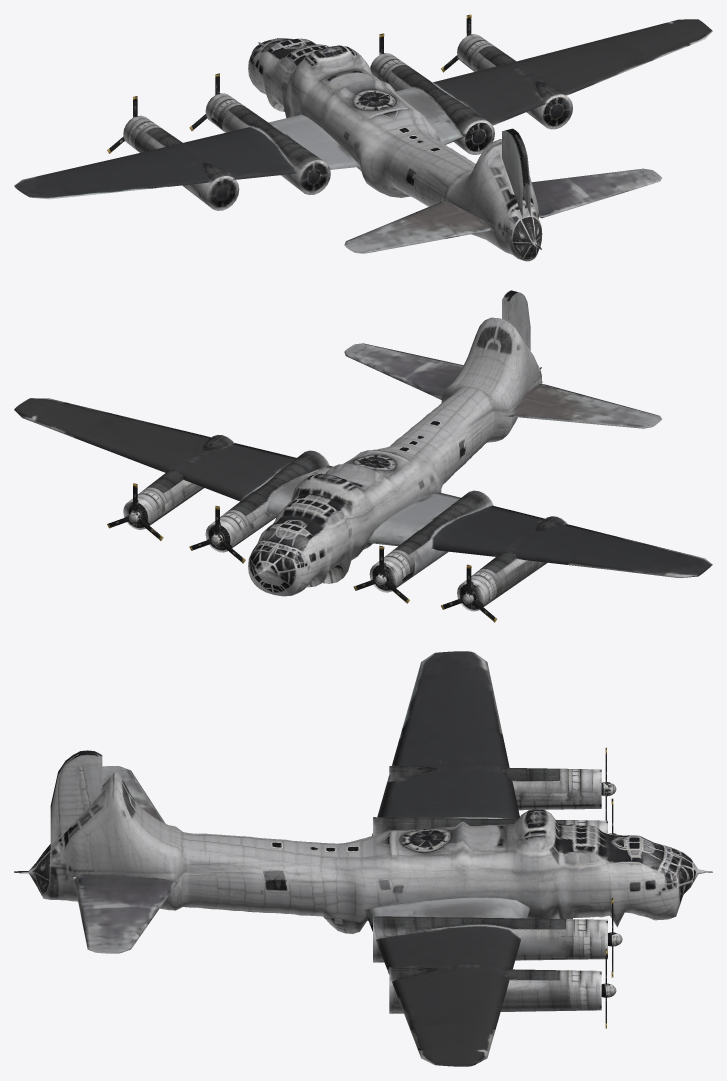
The model's file is meshy_model.glb.
The picture shows the model from 3 angles, top to bottom: view 1: azimuth 30°, elevation 25°; view 2: azimuth 150°, elevation 25°; view 3: azimuth 270°, elevation 25°; orthographic projection. The views are drawn at different scales.
Size of the model in its own units: 2 by 0.4147 by 1.43.
Materials: 1 (1 with a texture image).
